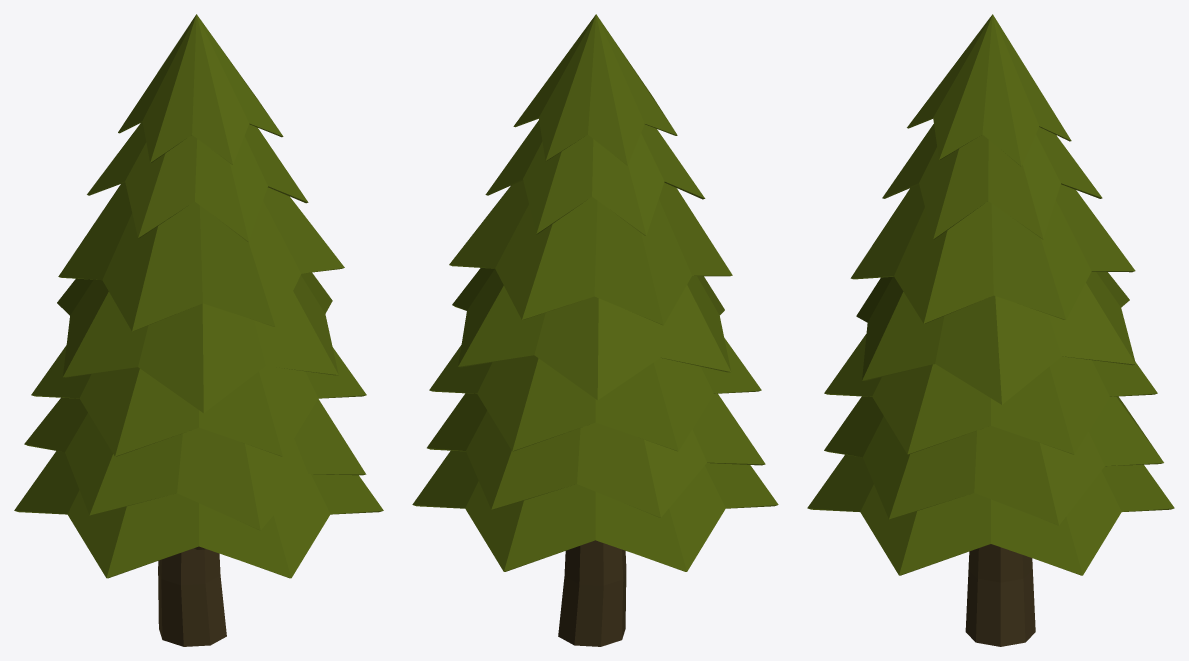
The model's file is tree4.glb.
The picture shows the model from 3 angles, left to right: view 1: azimuth 30°, elevation 25°; view 2: azimuth 150°, elevation 25°; view 3: azimuth 270°, elevation 25°; orthographic projection.
Parts seen in each view (by area): view 1: Tree4_1; view 2: Tree4_1; view 3: Tree4_1.
Boxes of the visible parts, x1,y1,x2,y2 form: Tree4_1: (14,14,383,646); Tree4_1: (412,14,778,646); Tree4_1: (807,14,1174,646).
Bounding box in the file's own units: 2.76 × 5.86 × 3.16.
